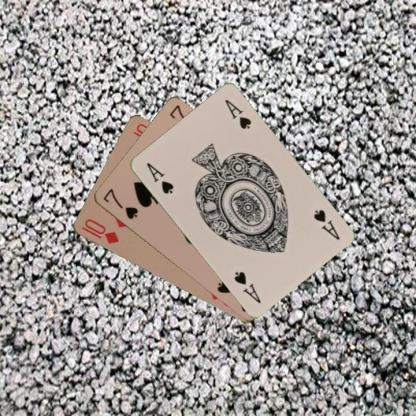10d: (79, 216, 120, 246)
7s: (100, 186, 139, 220)
As: (143, 160, 175, 196), (310, 207, 341, 241)
